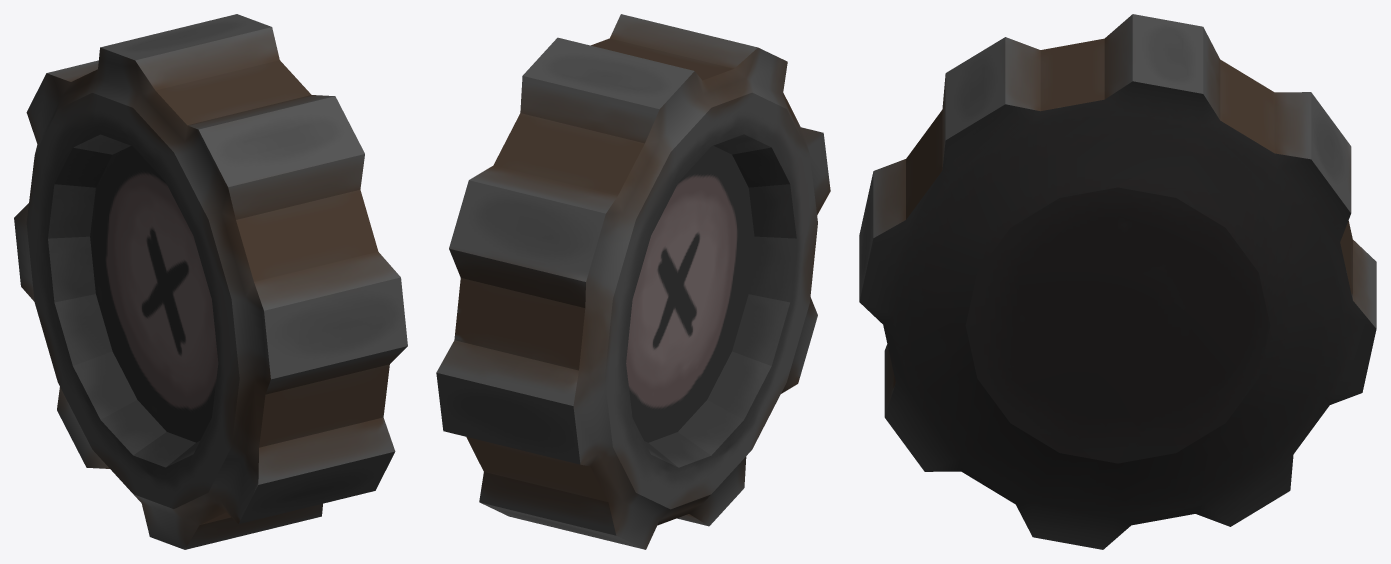
The model's file is wheel.fbx.
3 views of the same model, side by side, from view 1: azimuth 30°, elevation 25°; view 2: azimuth 150°, elevation 25°; view 3: azimuth 270°, elevation 25° (orthographic).
Visible parts, largest first — view 1: Wheel; view 2: Wheel; view 3: Wheel.
Boxes of the visible parts, bbox=[...] form: Wheel: bbox=[14, 14, 407, 549]; Wheel: bbox=[436, 14, 830, 549]; Wheel: bbox=[859, 14, 1376, 549].
Bounding box in the file's own units: 0.4438 × 1.14 × 1.14.
